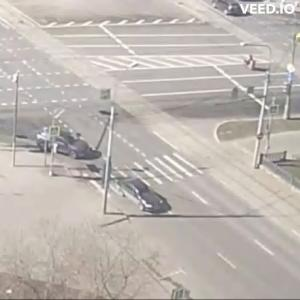car: (113, 174, 172, 214), (41, 132, 94, 158)
